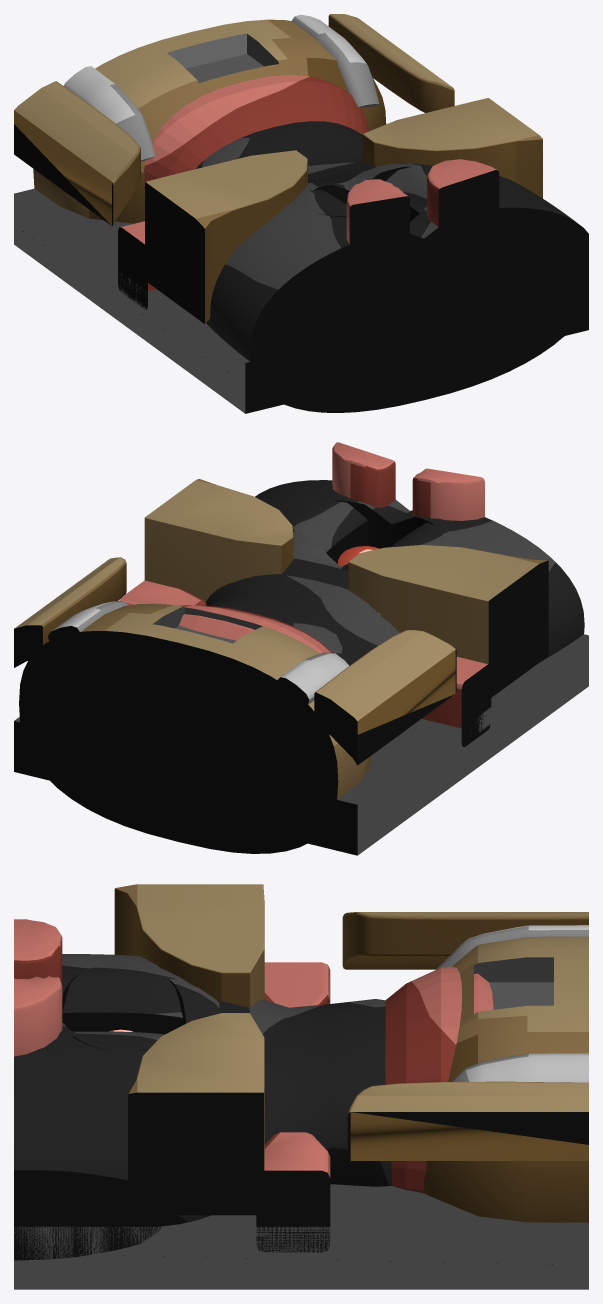
The model's file is tusk_boss_core_5.glb.
3 renders of one model, top to bottom at view 1: azimuth 30°, elevation 25°; view 2: azimuth 150°, elevation 25°; view 3: azimuth 270°, elevation 25°, orthographic. The views are drawn at different scales.
Parts seen in each view (by area): view 1: tusk_boss_core_5; view 2: tusk_boss_core_5; view 3: tusk_boss_core_5.
Part boxes in pixels (left/top/right/bottom): tusk_boss_core_5: left=14, top=14, right=588, bottom=413; tusk_boss_core_5: left=14, top=442, right=588, bottom=855; tusk_boss_core_5: left=14, top=884, right=588, bottom=1289.
Bounding box in the file's own units: 24 × 14.5 × 28.
